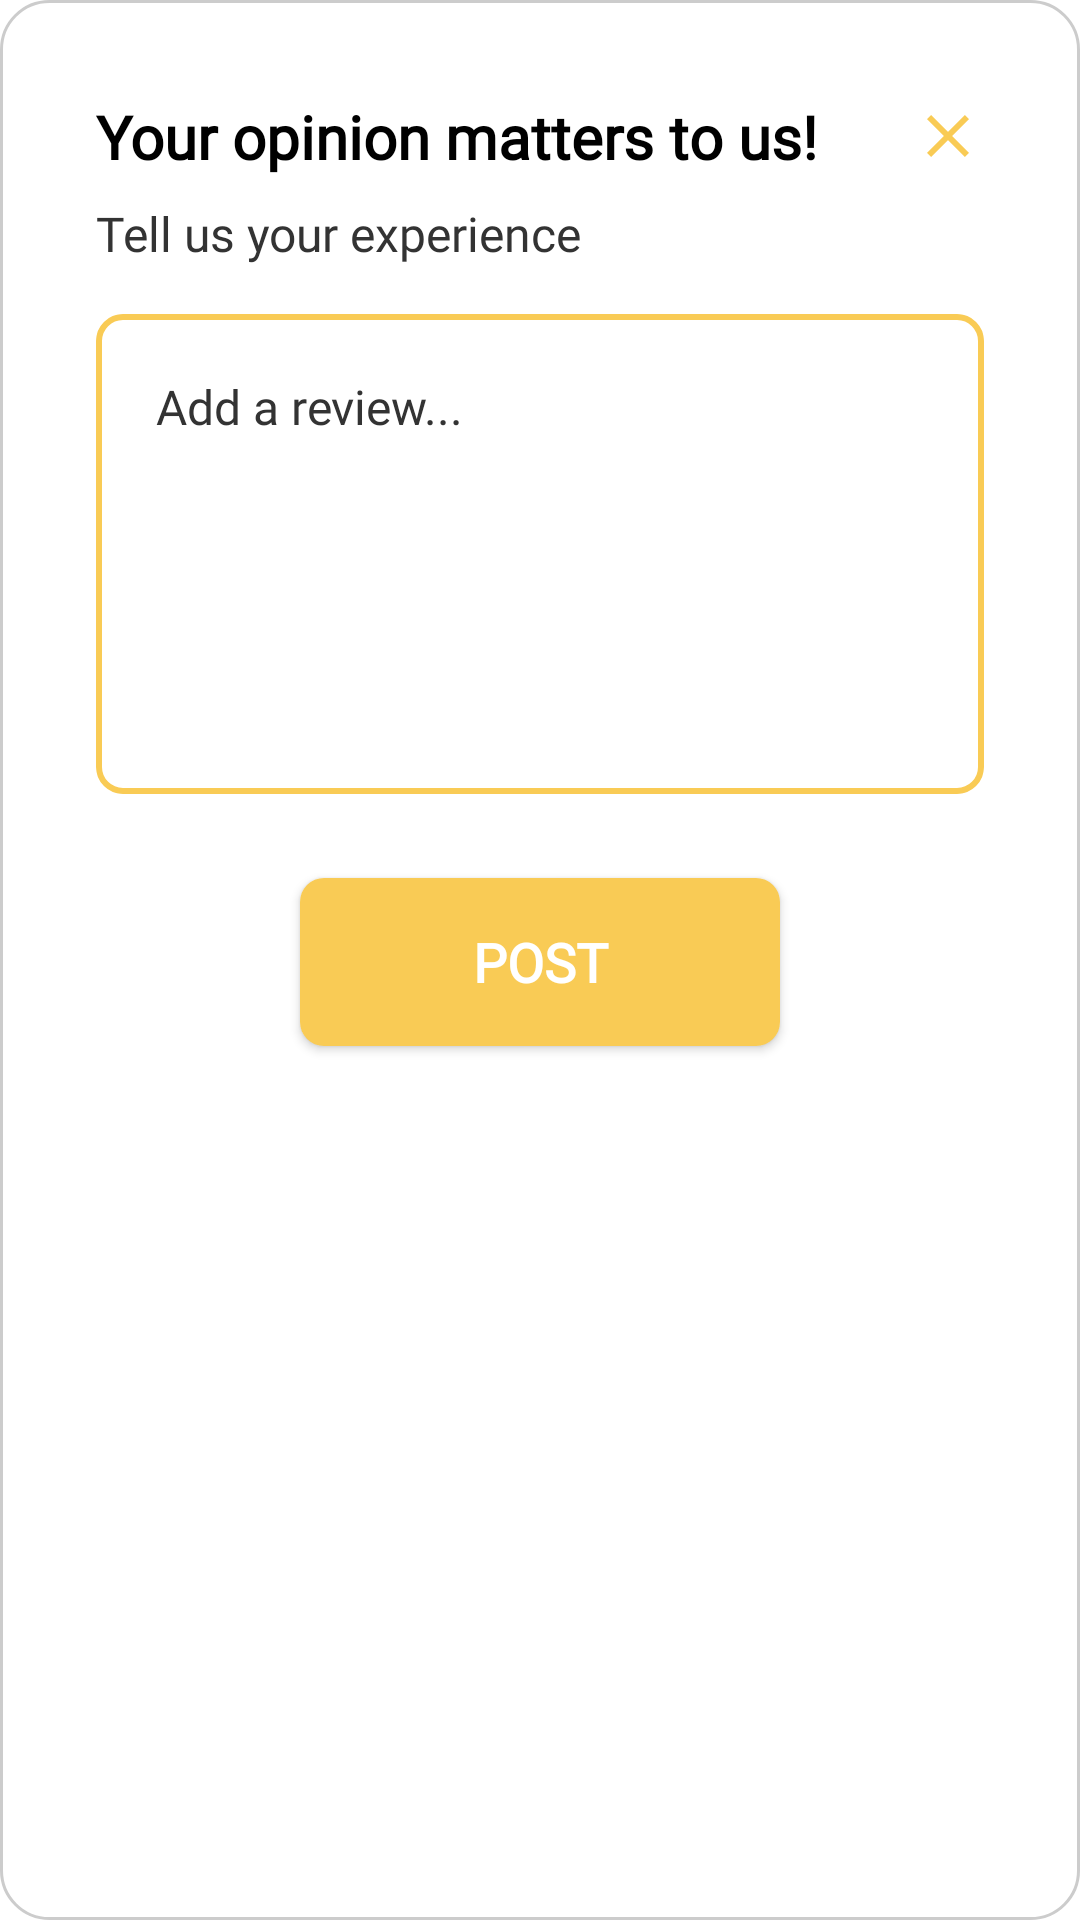

Icons on this 1080*1920 Android screen, each with the point to tap as (x=x, y=y):
Close: (x=948, y=136)
